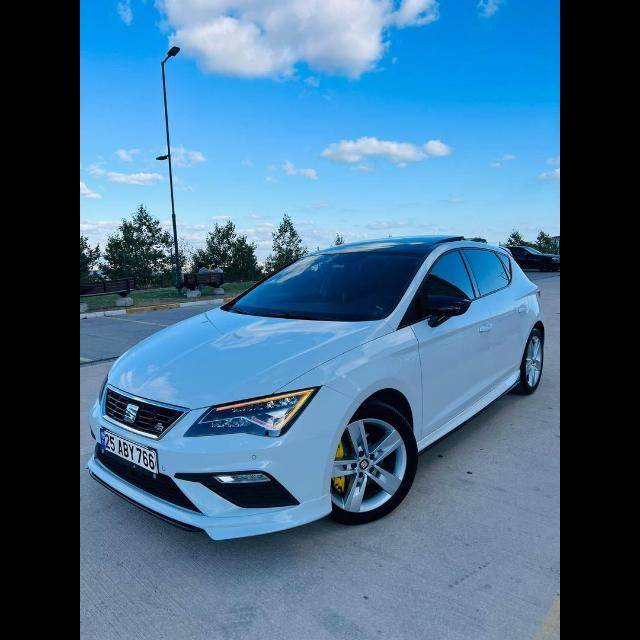Plaka: (100, 427, 158, 473)
